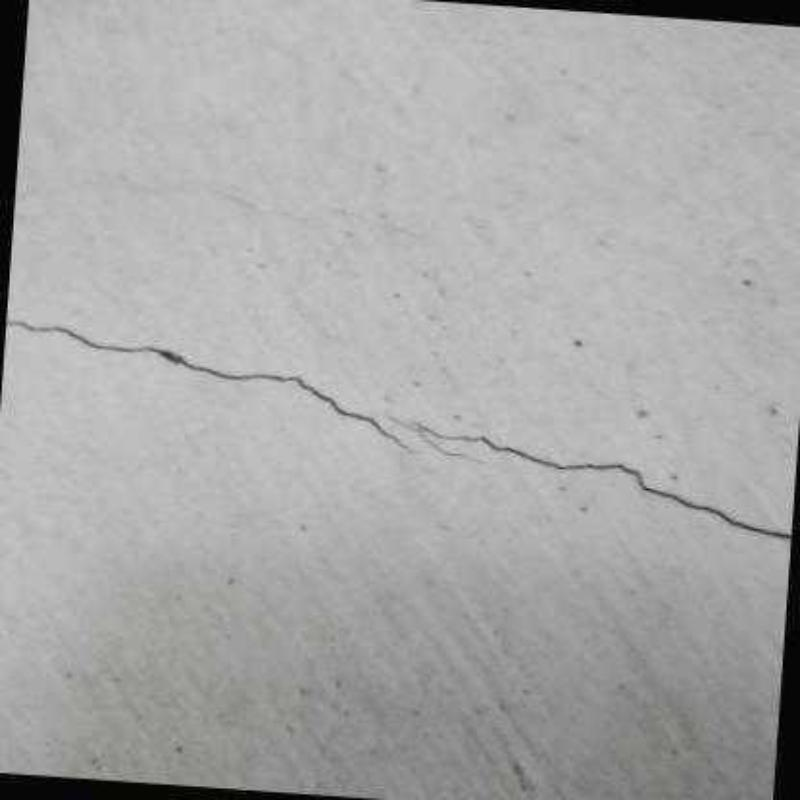pothole: (4, 321, 416, 455), (383, 415, 792, 540)
